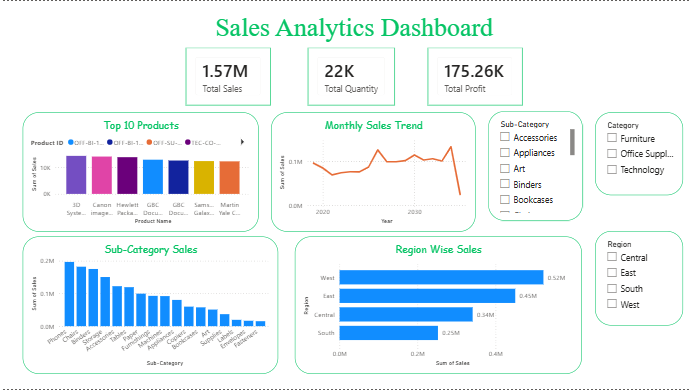

The page's visual inventory and layout, read from the dashboard file:
{"tool":"powerbi","page":{"name":"Sales DB","canvas":[1280,720],"ordinal":1},"visuals":[{"type":"cardVisual","fields":{"Data":["Measure.Total Sales"]},"box":[344.3,85.7,157.1,107.1],"z":0},{"type":"cardVisual","fields":{"Data":["Measure.Total Profit"]},"box":[792.9,85.7,175.7,107.1],"z":1000},{"type":"cardVisual","fields":{"Data":["Measure.Total Quantity"]},"box":[570,85.7,161.4,107.1],"z":2000},{"type":"columnChart","title":"Top 10 Products","fields":{"Y":["Sum(Sheet1.Sales)"],"Category":["Sheet1.Product Name"],"Series":["Sheet1.Product ID"]},"box":[41.7,205,436.7,221.7],"z":3000},{"type":"lineChart","title":"Monthly Sales Trend ","fields":{"Category":["Sheet1.Order Date.Variation.Date Hierarchy.Year","Sheet1.Order Date.Variation.Date Hierarchy.Quarter","Sheet1.Order Date.Variation.Date Hierarchy.Month","Sheet1.Order Date.Variation.Date Hierarchy.Day"],"Y":["Sum(Sheet1.Sales)"]},"box":[501.7,205,378.3,221.7],"z":4000},{"type":"clusteredColumnChart","title":"Sub-Category Sales","fields":{"Category":["Sheet1.Sub-Category"],"Y":["Sum(Sheet1.Sales)"]},"box":[41.7,435,473.3,255],"z":5000},{"type":"barChart","title":"Region Wise Sales","fields":{"Category":["Sheet1.Region"],"Y":["Sum(Sheet1.Sales)"]},"box":[546.7,435,531.7,255],"z":6000},{"type":"textbox","box":[220,15,871.7,70],"z":7000},{"type":"slicer","fields":{"Values":["Sheet1.Region"]},"box":[1101.7,426.7,163.3,175],"z":8000},{"type":"slicer","fields":{"Values":["Sheet1.Sub-Category"]},"box":[903.9,204.7,175.2,203.1],"z":9000},{"type":"slicer","fields":{"Values":["Sheet1.Category"]},"box":[1101.7,206.7,163.3,153.3],"z":10000}]}

Visuals, with their boxes in screenshot pixels (x1, y1, x2, y2), scaled from the page's 1280x720 canvas onto the 689x390 screenshot:
cardVisual - Measure.Total Sales: (x1=185, y1=46, x2=270, y2=104)
cardVisual - Measure.Total Profit: (x1=427, y1=46, x2=521, y2=104)
cardVisual - Measure.Total Quantity: (x1=307, y1=46, x2=394, y2=104)
"Top 10 Products" columnChart: (x1=22, y1=111, x2=258, y2=231)
"Monthly Sales Trend " lineChart: (x1=270, y1=111, x2=474, y2=231)
"Sub-Category Sales" clusteredColumnChart: (x1=22, y1=236, x2=277, y2=374)
"Region Wise Sales" barChart: (x1=294, y1=236, x2=580, y2=374)
textbox: (x1=118, y1=8, x2=588, y2=46)
slicer - Sheet1.Region: (x1=593, y1=231, x2=681, y2=326)
slicer - Sheet1.Sub-Category: (x1=487, y1=111, x2=581, y2=221)
slicer - Sheet1.Category: (x1=593, y1=112, x2=681, y2=195)
